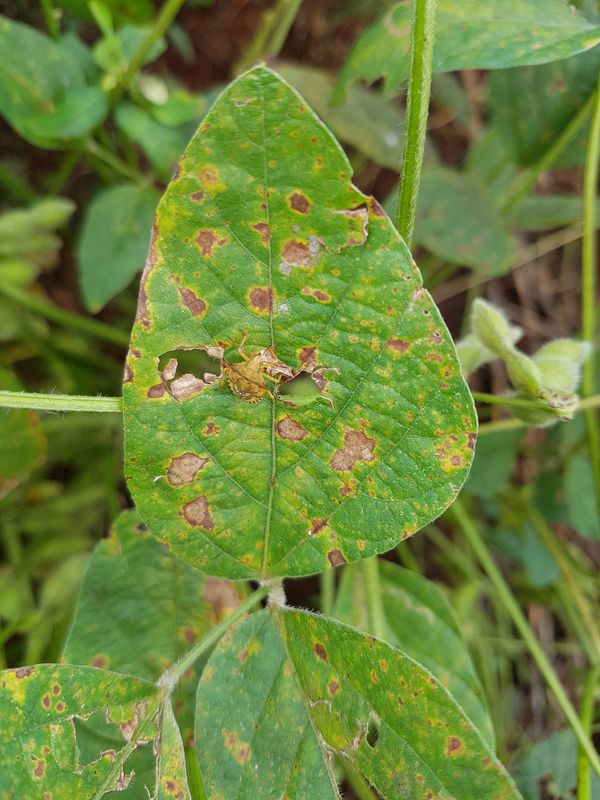Euschistus_heros_ninfa: (214, 330, 285, 410)
